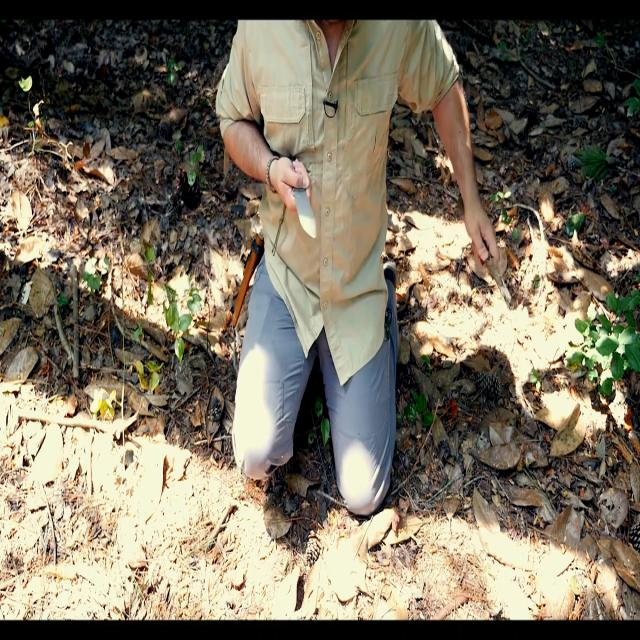knife: (292, 183, 320, 249)
